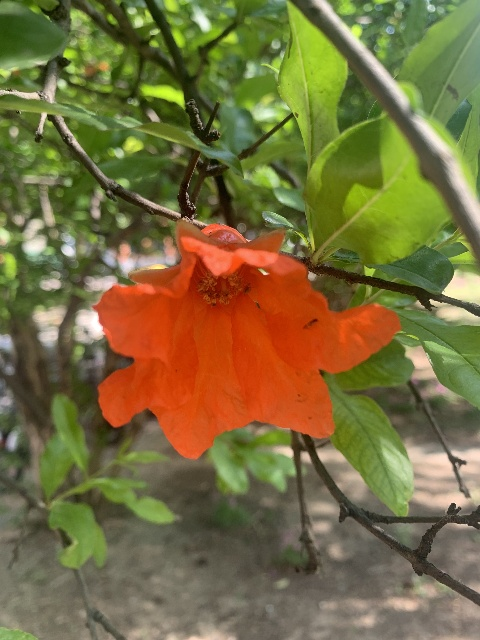flower: (90, 220, 399, 463)
